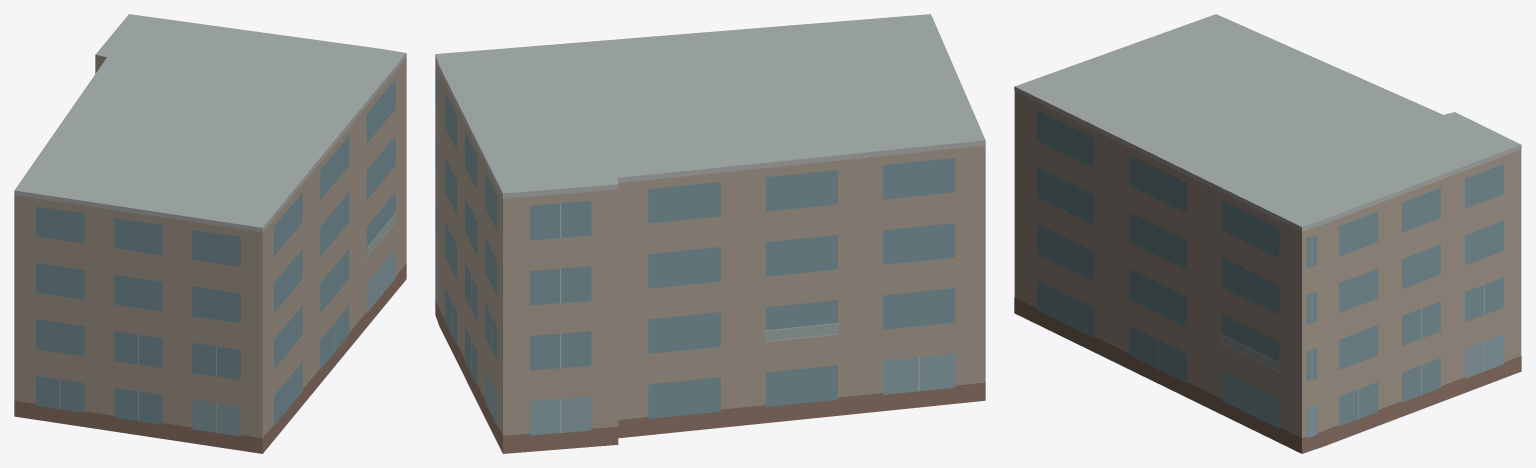
Rendered from survey-upis-32671802.glb.
3 views of the same model, side by side, from view 1: azimuth 30°, elevation 25°; view 2: azimuth 150°, elevation 25°; view 3: azimuth 270°, elevation 25° (orthographic). The views are drawn at different scales.
Parts seen in each view (by area): view 1: survey-upis-32671802.tmp; view 2: survey-upis-32671802.tmp; view 3: survey-upis-32671802.tmp.
Boxes of the visible parts, left/top/right/bottom form: survey-upis-32671802.tmp: left=14, top=14, right=406, bottom=453; survey-upis-32671802.tmp: left=435, top=14, right=985, bottom=453; survey-upis-32671802.tmp: left=1014, top=14, right=1521, bottom=453.
Bounding box in the file's own units: 23.98 × 11.9 × 24.11.
